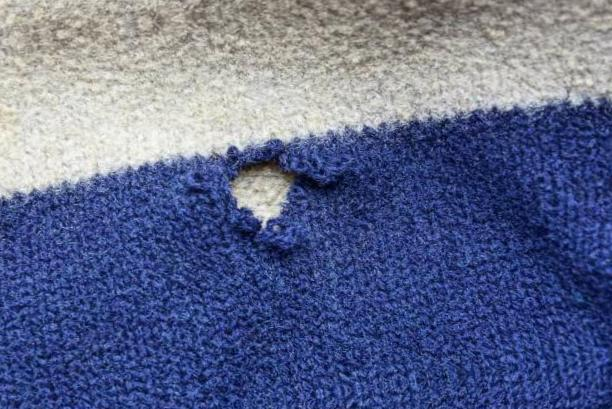hole: (219, 154, 308, 229)
